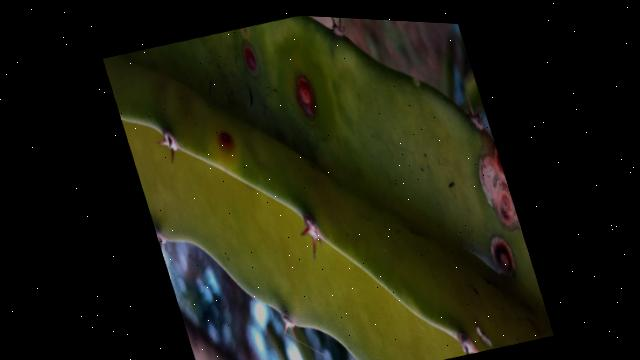stemcanker: (477, 153, 522, 233), (291, 75, 323, 128), (214, 121, 245, 164), (489, 235, 518, 277), (241, 44, 267, 87)
